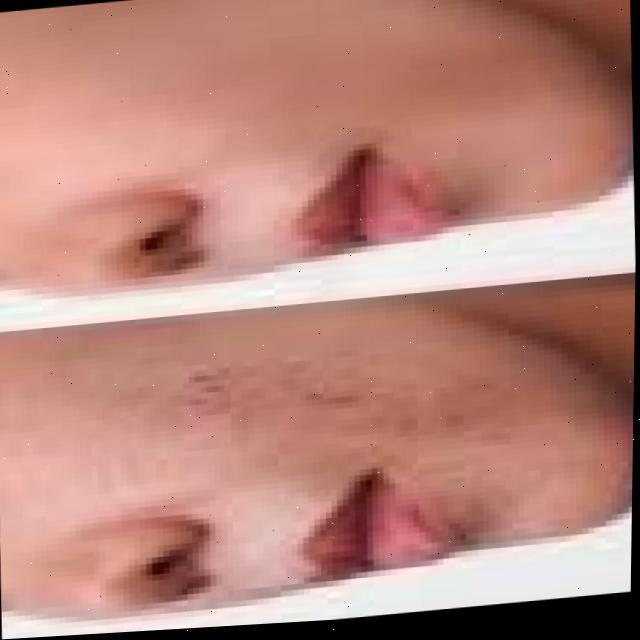Melasma: (172, 332, 413, 432)
